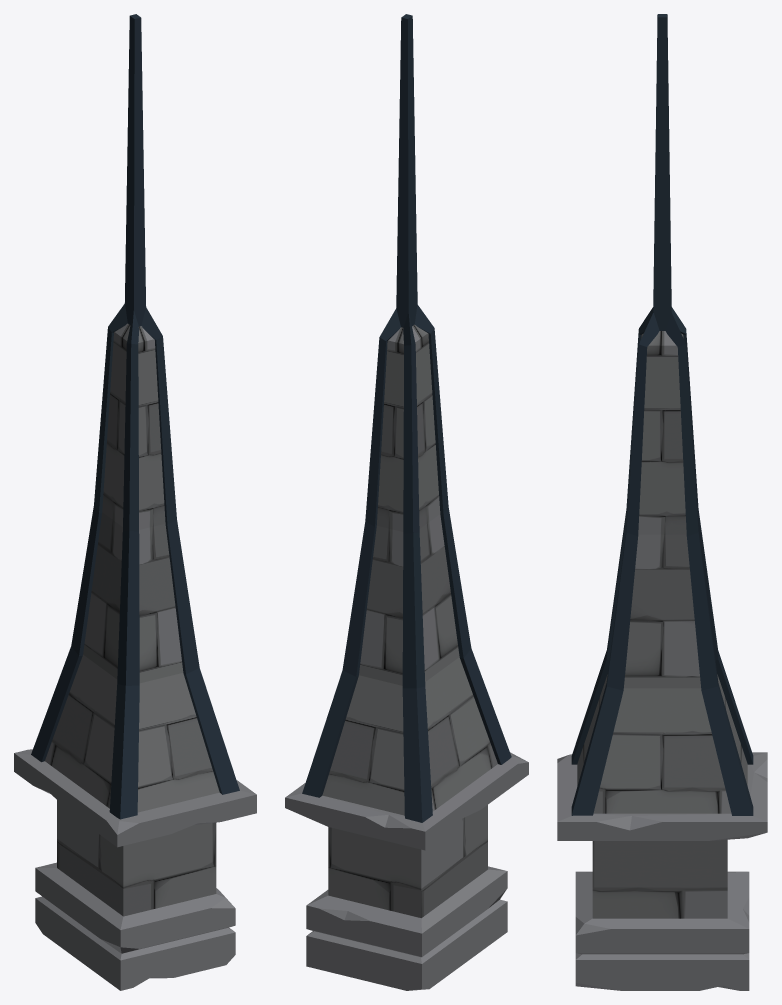
Rendered from crypt_buttress.gltf.
3 views of the same model, side by side, from view 1: azimuth 30°, elevation 25°; view 2: azimuth 150°, elevation 25°; view 3: azimuth 270°, elevation 25° (orthographic).
Parts seen in each view (by area): view 1: crypt_buttress; view 2: crypt_buttress; view 3: crypt_buttress.
Part boxes in pixels (x1=…): crypt_buttress: x1=14, y1=14, x2=256, y2=990; crypt_buttress: x1=285, y1=14, x2=528, y2=990; crypt_buttress: x1=557, y1=14, x2=767, y2=990.
Size of the model in its own units: 1.19 by 7.59 by 1.53.
2 materials, 2 textured.
